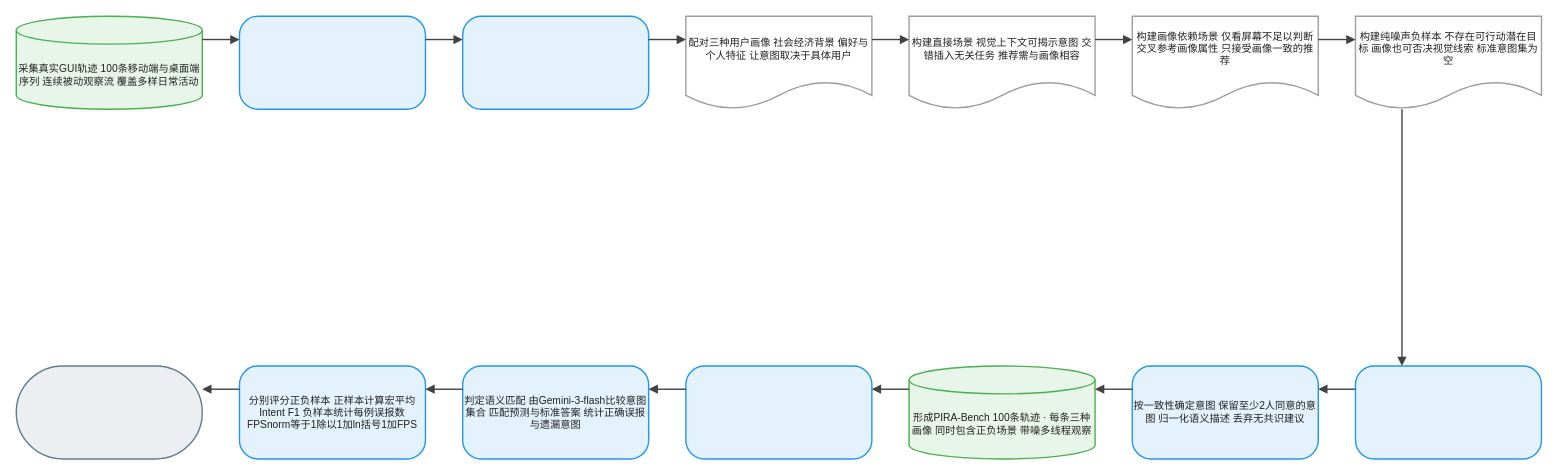
This 1559x476 diagram has some shape labels left out. Each missing label, with the box of its shape:
保留连续上下文 每条轨迹平均32张截图 保持时间顺序 表达长时程行为: (238, 15, 426, 110)
执行主动意图预测 输入连续截图与用户画像 不提供显式用户指令 返回推荐意图集合: (685, 365, 872, 459)
收集三人独立标注 同时展示轨迹与画像 标注明确可行动意图 每个配对独立作业: (1354, 365, 1542, 459)
注入真实噪声 无关应用切换 空闲屏幕 随机浏览片段: (462, 15, 649, 110)
计算最终得分 F1平均值乘FPSnorm 奖励有用的主动意图 惩罚不必要干预: (15, 365, 203, 459)
